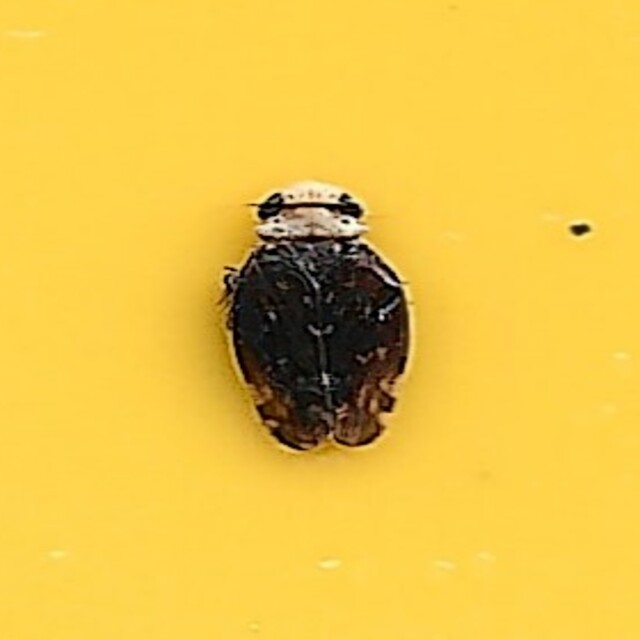Hemiptera: (229, 177, 411, 463)
